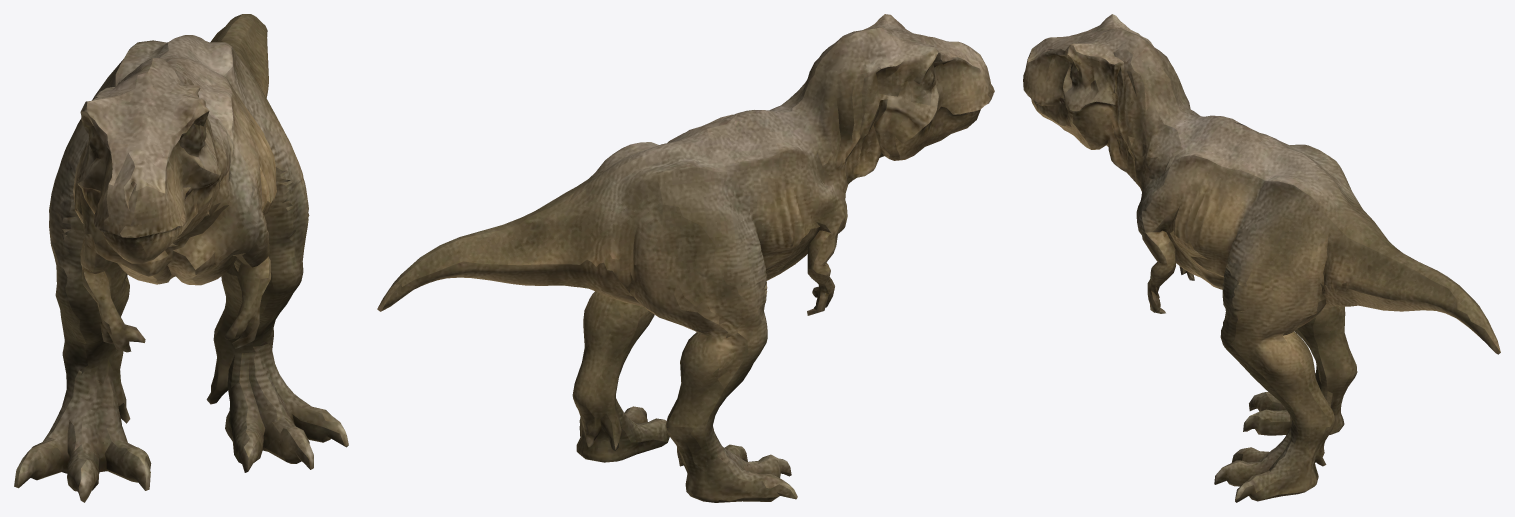
3 views of the same model, side by side, from view 1: azimuth 30°, elevation 25°; view 2: azimuth 150°, elevation 25°; view 3: azimuth 270°, elevation 25° (orthographic). The views are drawn at different scales.
Parts seen in each view (by area): view 1: geometry_0; view 2: geometry_0; view 3: geometry_0.
Boxes of the visible parts, x1,y1,x2,y2 form: geometry_0: [14, 14, 348, 502]; geometry_0: [377, 14, 994, 502]; geometry_0: [1023, 14, 1500, 502].
Size of the model in its own units: 0.45 by 0.4675 by 0.5408.
1 material, 1 textured.
